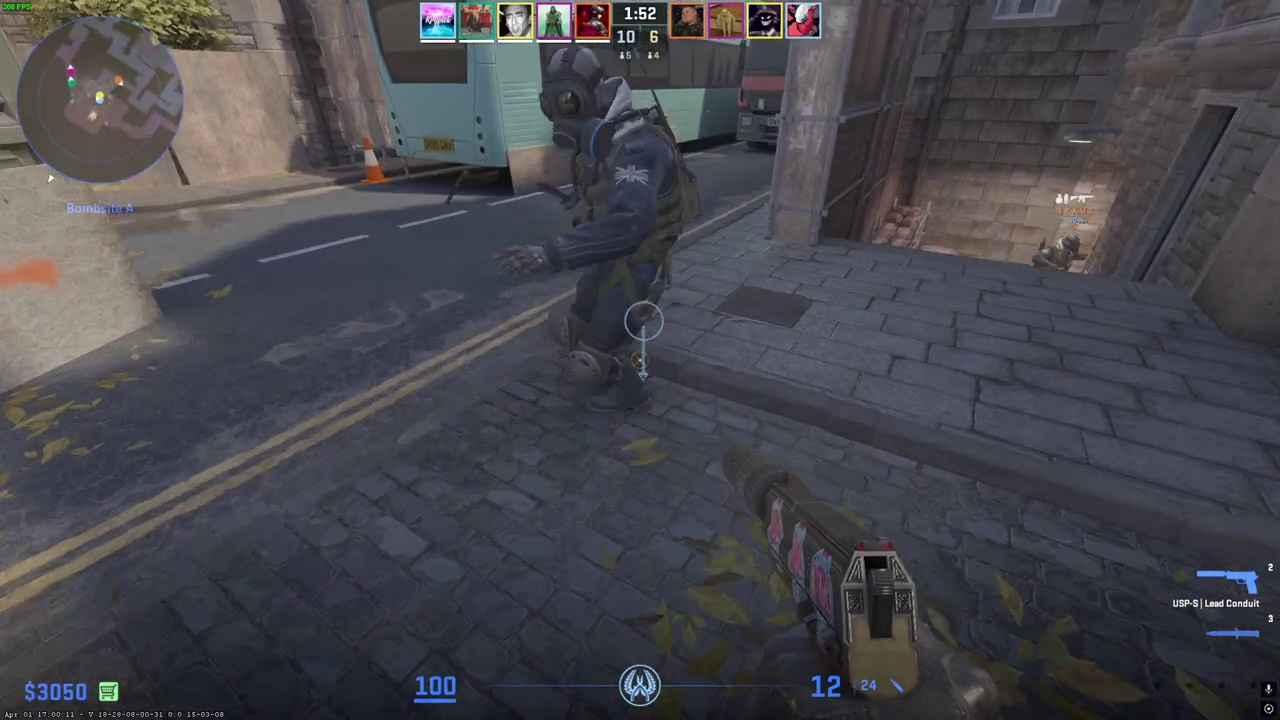CT: (529, 45, 685, 415), (1034, 233, 1088, 273)
